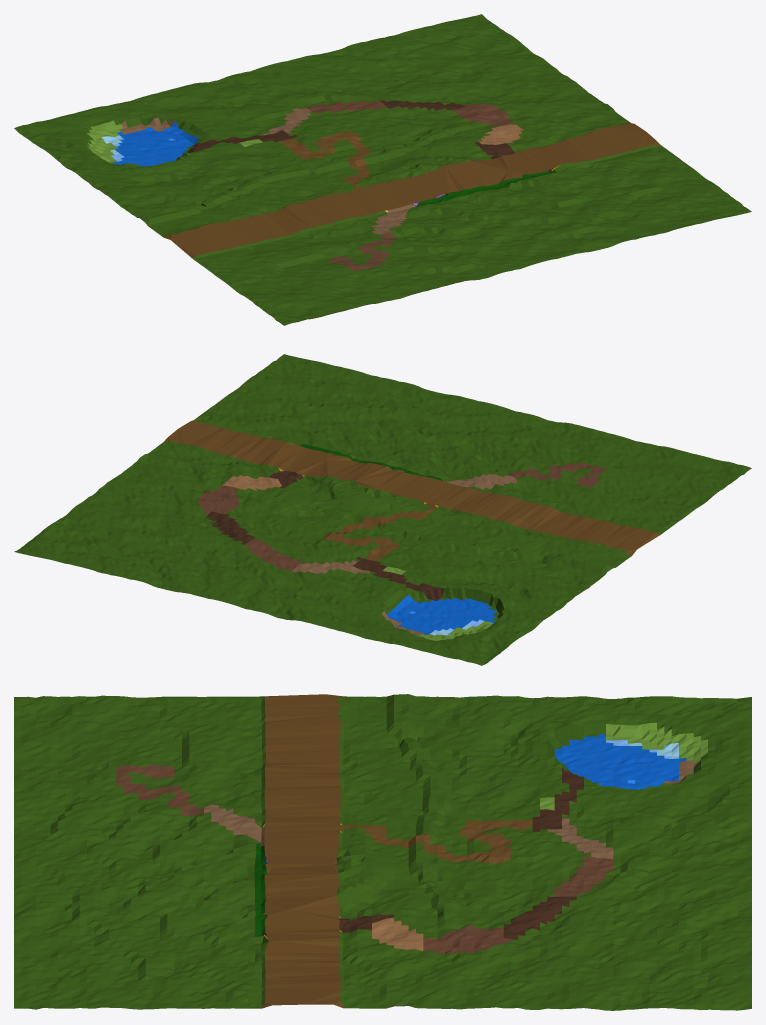
Rendered from terrainv2.glb.
The picture shows the model from 3 angles, top to bottom: view 1: azimuth 30°, elevation 25°; view 2: azimuth 150°, elevation 25°; view 3: azimuth 270°, elevation 25°; orthographic projection. The views are drawn at different scales.
Parts seen in each view (by area): view 1: Plane; view 2: Plane; view 3: Plane.
Boxes of the visible parts, box(x1,y1,x2,y2) form: Plane: box(14, 14, 751, 325); Plane: box(14, 354, 751, 665); Plane: box(14, 694, 751, 1010).
Bounding box in the file's own units: 500 × 16.6 × 500.
1 material, 1 textured.
